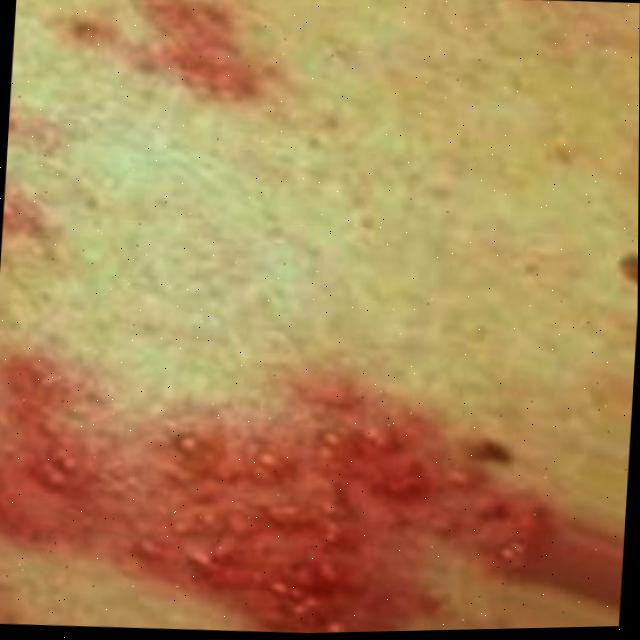Shingles: (0, 337, 545, 640), (47, 0, 283, 117)
